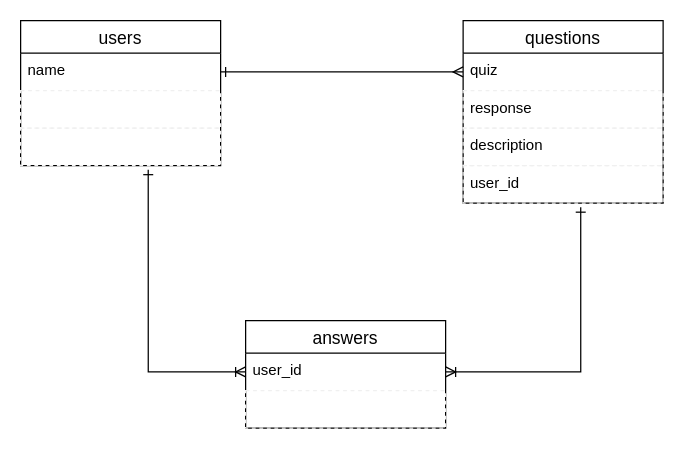
This 684x449 diagram has some shape labels left out. The shapes that lost their labels are listed below. From the top down, each one's centre as x and y in pixels, then its label:
At point 120,108: "email".
At point 120,146: "encrypted_password".
At point 345,408: "question_id".
